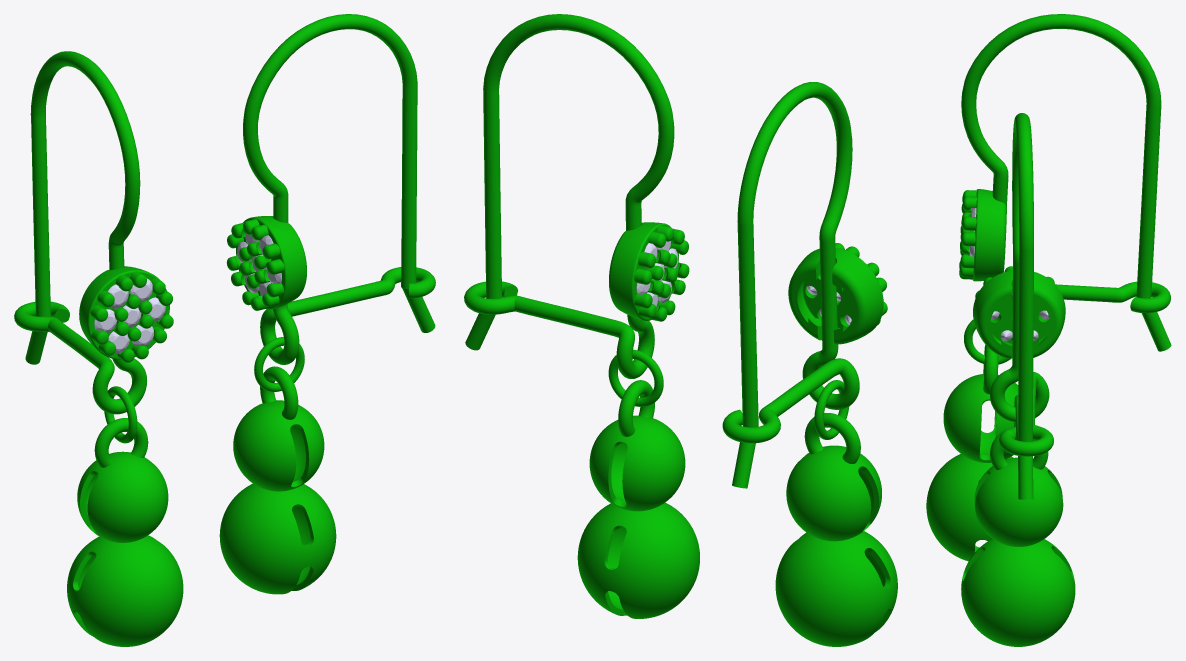
3 renders of one model, left to right at view 1: azimuth 30°, elevation 25°; view 2: azimuth 150°, elevation 25°; view 3: azimuth 270°, elevation 25°, orthographic. The views are drawn at different scales.
Visible parts, largest first — view 1: EAR-2511543.3dm; view 2: EAR-2511543.3dm; view 3: EAR-2511543.3dm.
Part boxes in pixels (x1=…): EAR-2511543.3dm: x1=14, y1=14, x2=435, y2=646; EAR-2511543.3dm: x1=464, y1=14, x2=897, y2=646; EAR-2511543.3dm: x1=926, y1=14, x2=1171, y2=646.
Size of the model in its own units: 2.21 by 3.09 by 1.26.
